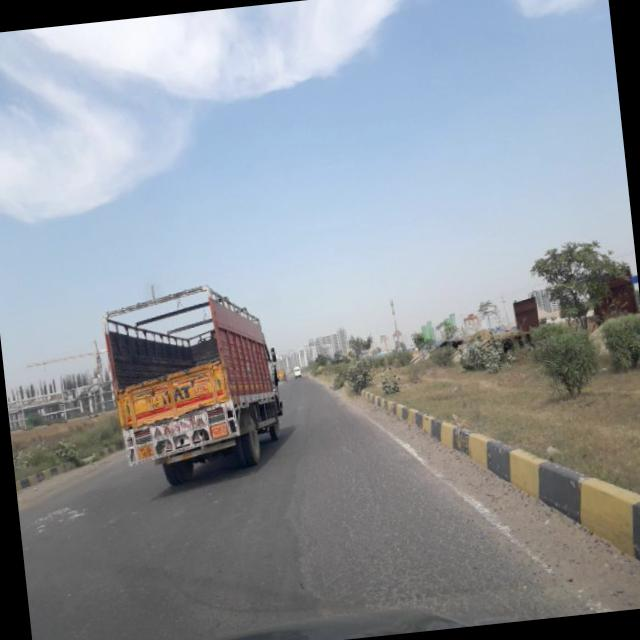crack: (250, 420, 560, 620)
